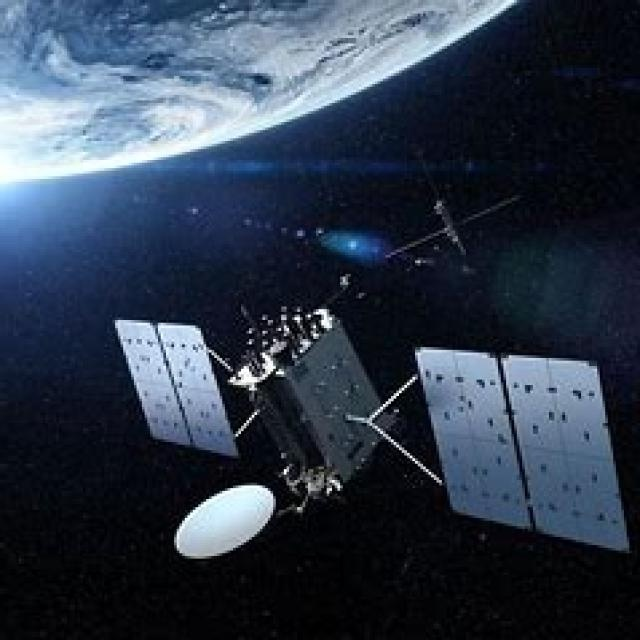satellite: (91, 214, 640, 567)
